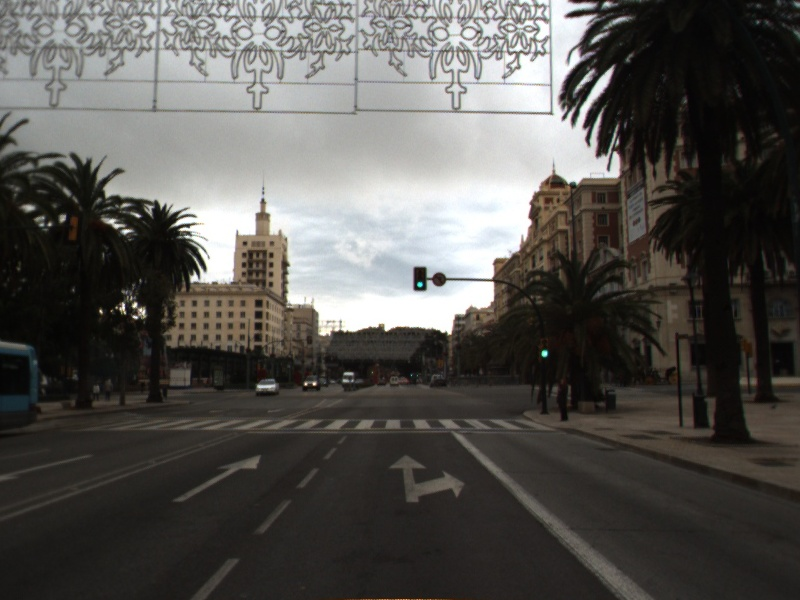STRAIGHT: (169, 452, 264, 505)
STRAIGHT_RIGHT: (386, 452, 467, 505)
